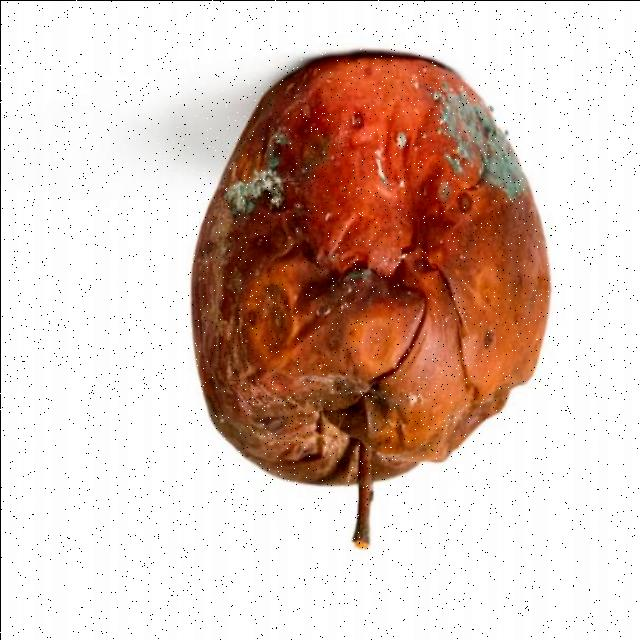ROT: (142, 26, 584, 526)
